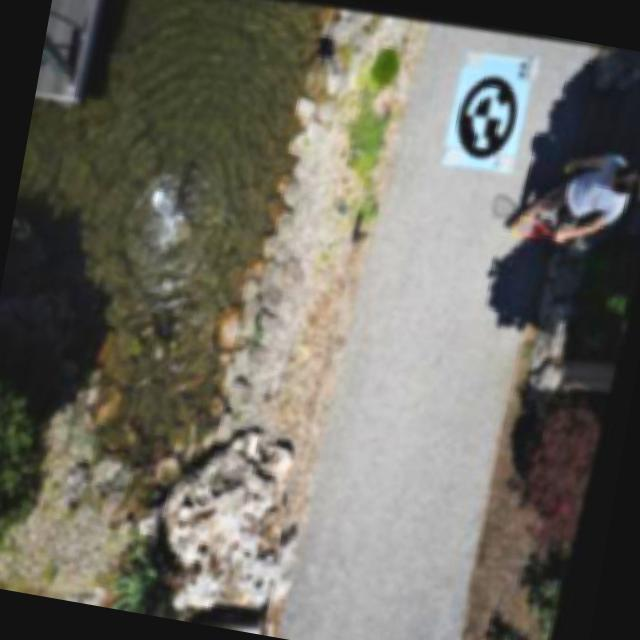Person: (505, 136, 640, 257)
